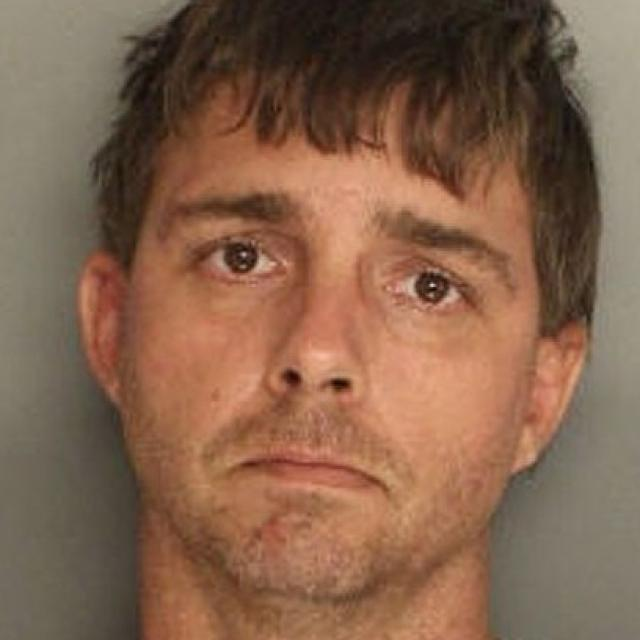Depress: (119, 80, 547, 604)
